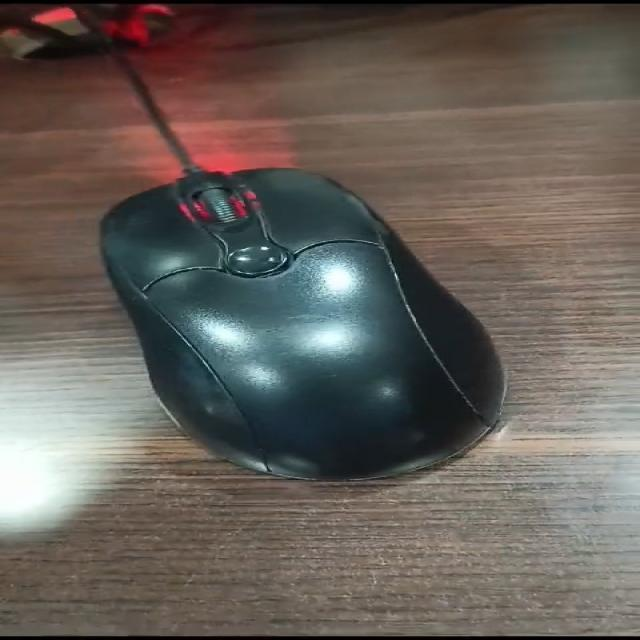Mouse: (72, 129, 568, 532)
